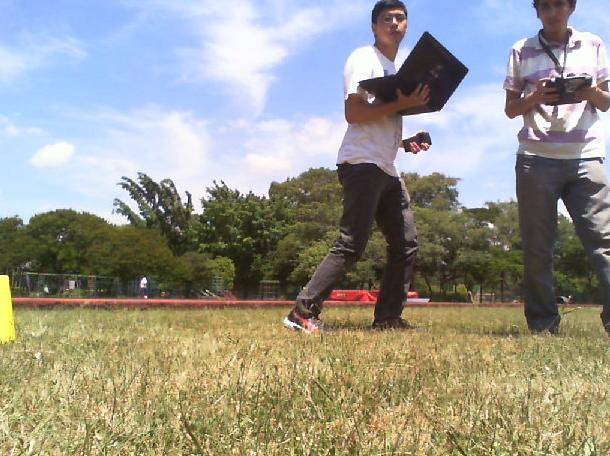0 cone: (0, 276, 17, 343)
